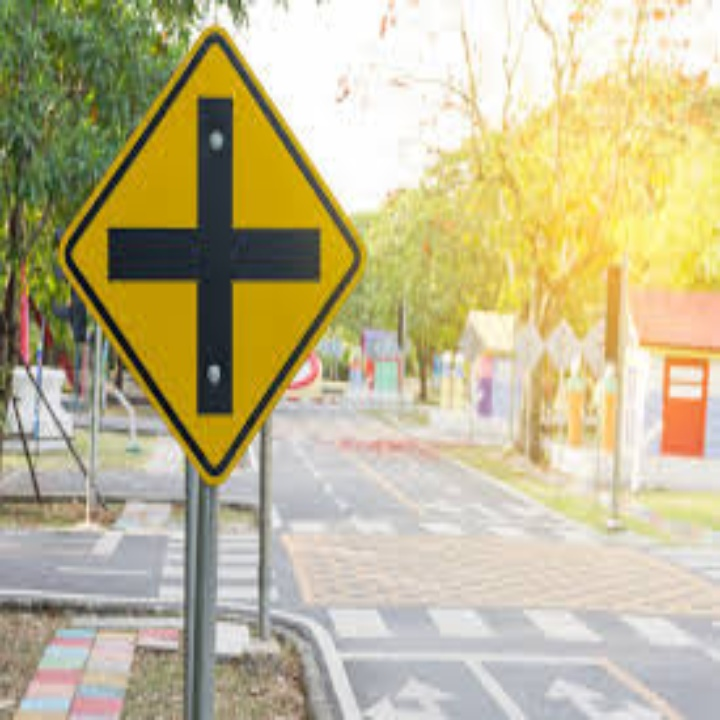inter: (100, 88, 333, 420)
